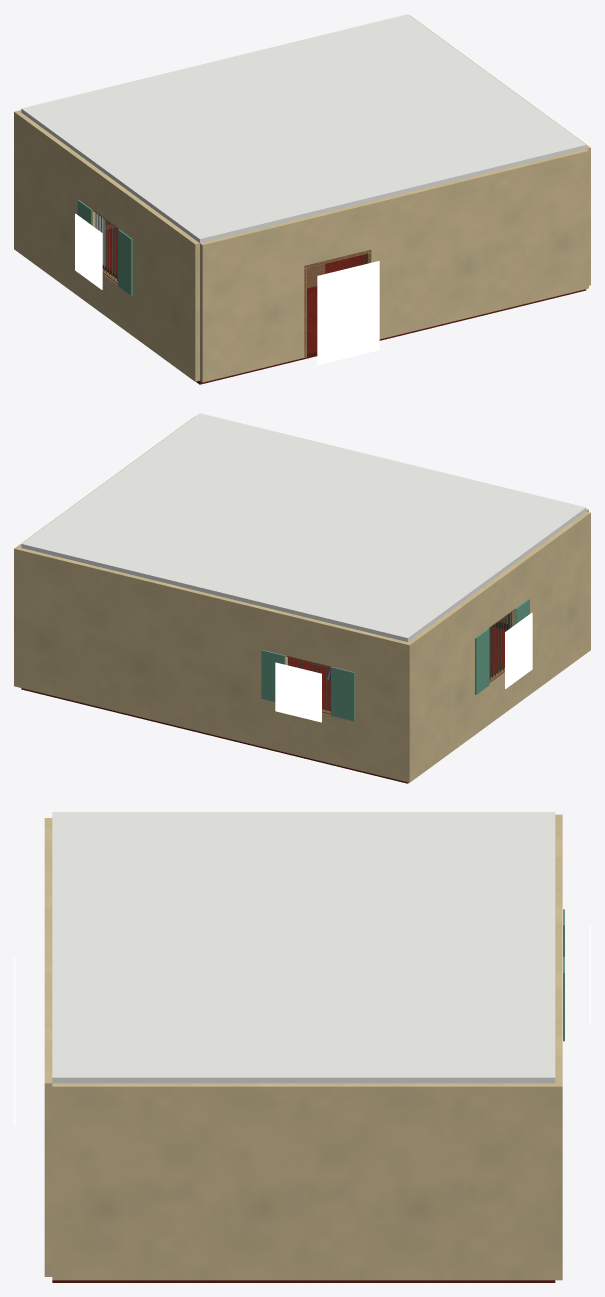
File: room_police.glb
The picture shows the model from 3 angles, top to bottom: view 1: azimuth 30°, elevation 25°; view 2: azimuth 150°, elevation 25°; view 3: azimuth 270°, elevation 25°; orthographic projection. The views are drawn at different scales.
Parts seen in each view (by area): view 1: Room; view 2: Room; view 3: Room.
Boxes of the visible parts, <box> form: Room: <box>14,14,590,384</box>; Room: <box>14,413,590,783</box>; Room: <box>14,812,590,1282</box>.
Size of the model in its own units: 10.69 by 3.6 by 9.18.
54 materials, 10 textured.
